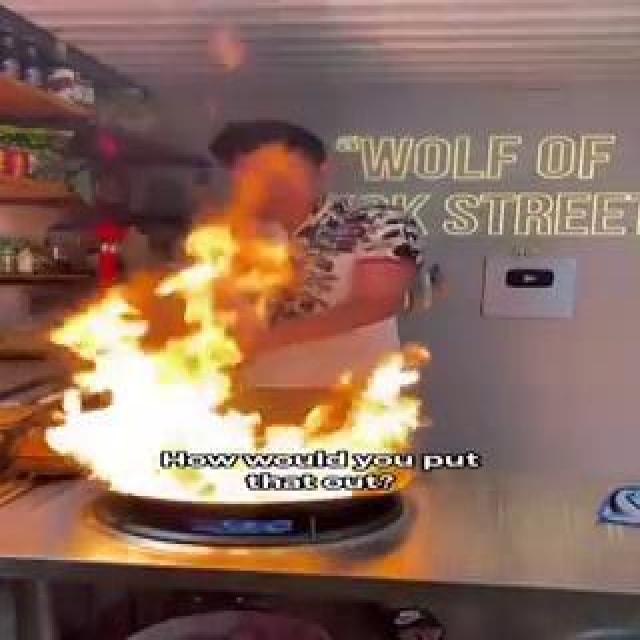Fire: (246, 318, 394, 382)
